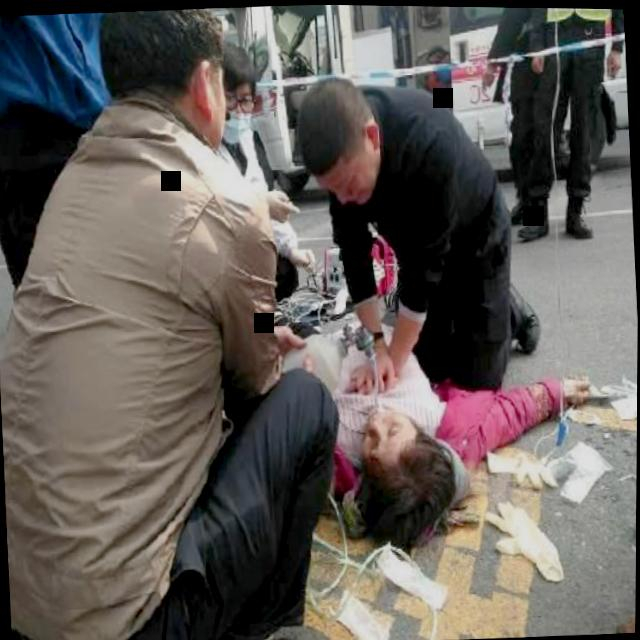Fall-Detected: (247, 267, 624, 570)
